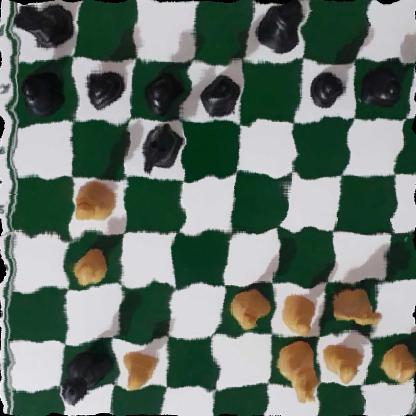black-bishop: (192, 76, 241, 122)
black-king: (251, 0, 308, 52)
black-knight: (139, 119, 184, 180)
black-pawn: (356, 63, 410, 110), (80, 62, 126, 110), (19, 66, 65, 110), (305, 65, 353, 107), (140, 68, 180, 110)
black-queen: (62, 340, 108, 407)
black-rook: (14, 0, 74, 55)
white-bishop: (67, 178, 122, 229), (225, 287, 272, 336)
white-king: (271, 339, 326, 399)
white-knight: (329, 284, 392, 330)
white-pawn: (317, 341, 364, 385), (276, 290, 317, 334), (120, 343, 164, 384), (375, 343, 416, 382), (72, 248, 111, 287)
